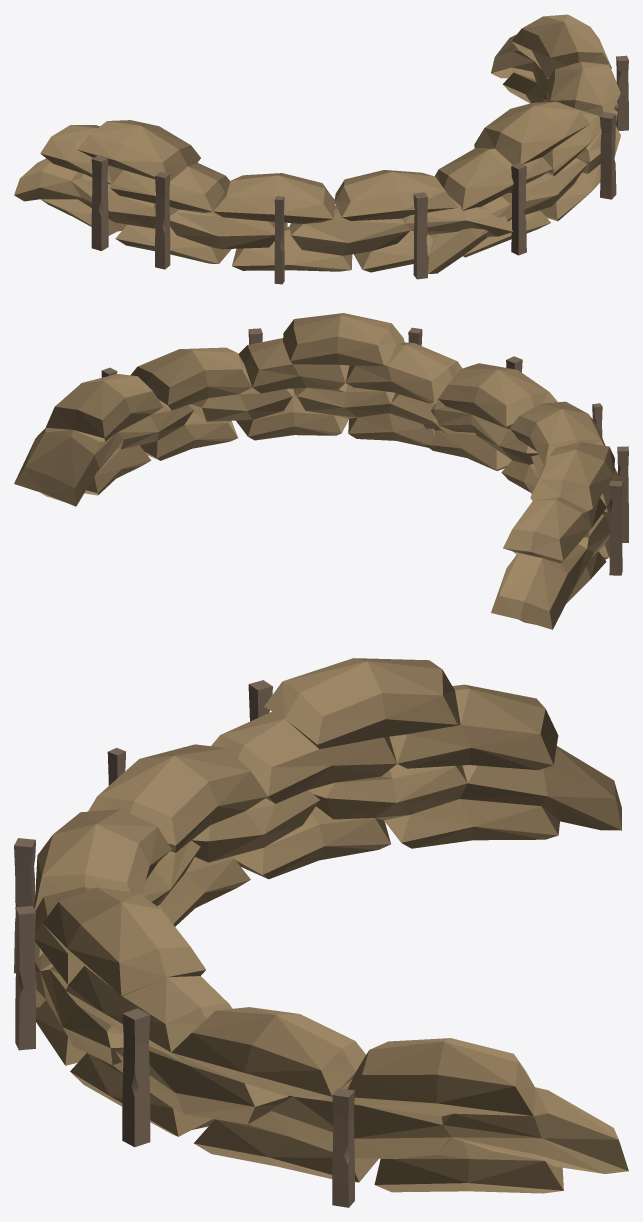
Rendered from model_Sandbags_03.fbx.
The picture shows the model from 3 angles, top to bottom: view 1: azimuth 30°, elevation 25°; view 2: azimuth 150°, elevation 25°; view 3: azimuth 270°, elevation 25°; orthographic projection. The views are drawn at different scales.
Visible parts, largest first — view 1: model_Sandbags_03; view 2: model_Sandbags_03; view 3: model_Sandbags_03.
Part boxes in pixels (left/top/right/bottom): model_Sandbags_03: left=14, top=14, right=628, bottom=284; model_Sandbags_03: left=14, top=313, right=628, bottom=629; model_Sandbags_03: left=14, top=658, right=628, bottom=1207.
Size of the model in its own units: 433 by 89.34 by 273.
1 material, 1 textured.
